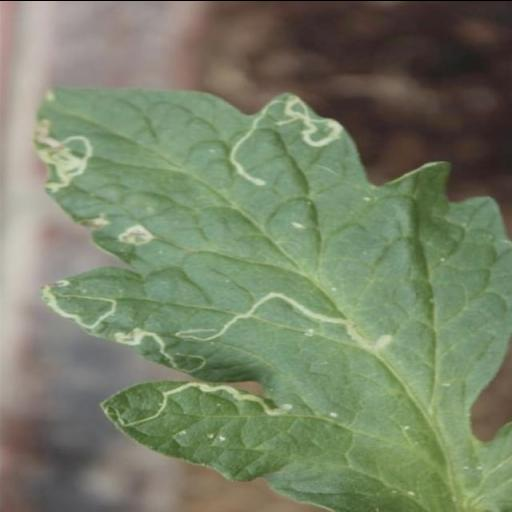Leaf Miner: (32, 87, 512, 512)
